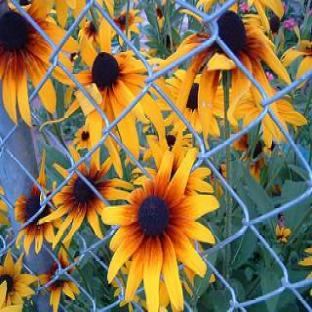sunflower: (101, 148, 220, 312)
